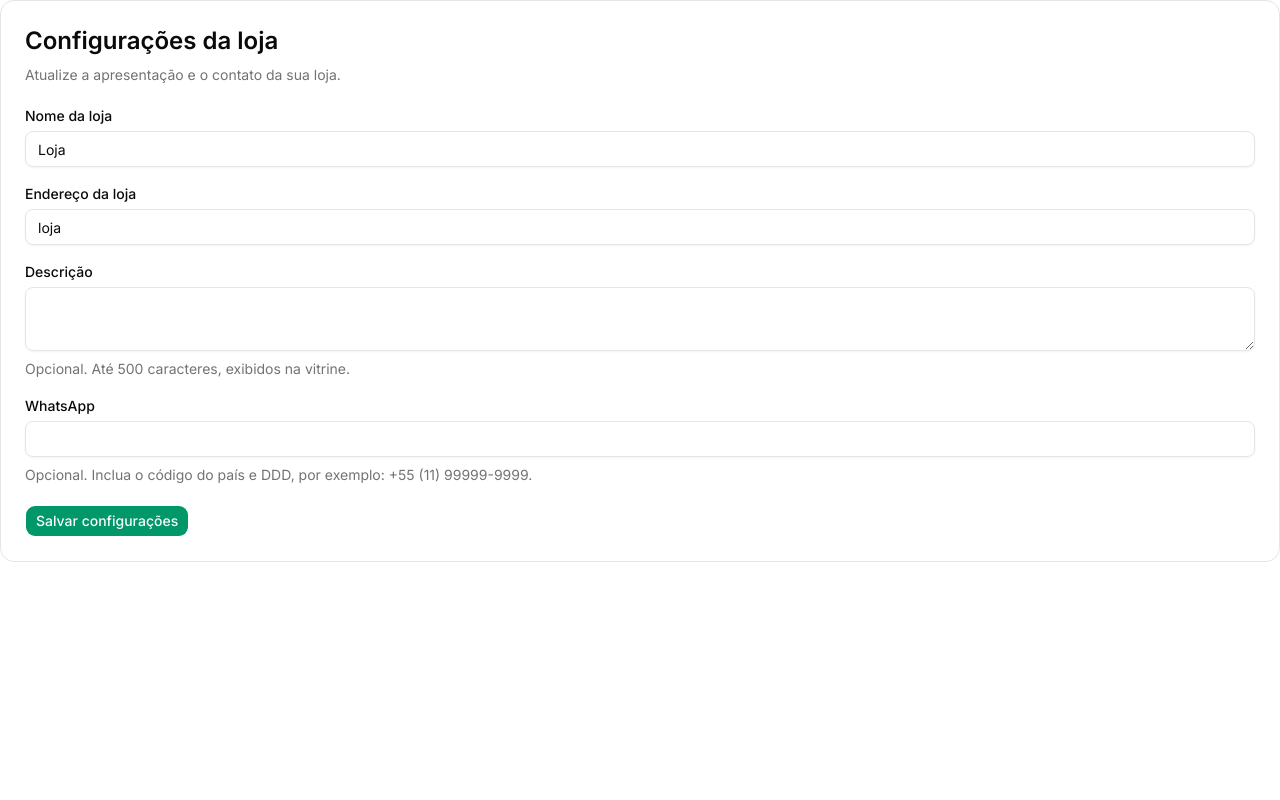
Test case: bloqueia envios enquanto pendente e trata falha de transporte
This screenshot has width=1280, height=800.
Click the button "Salvar configurações" at (107, 521), box [25,505,189,537]
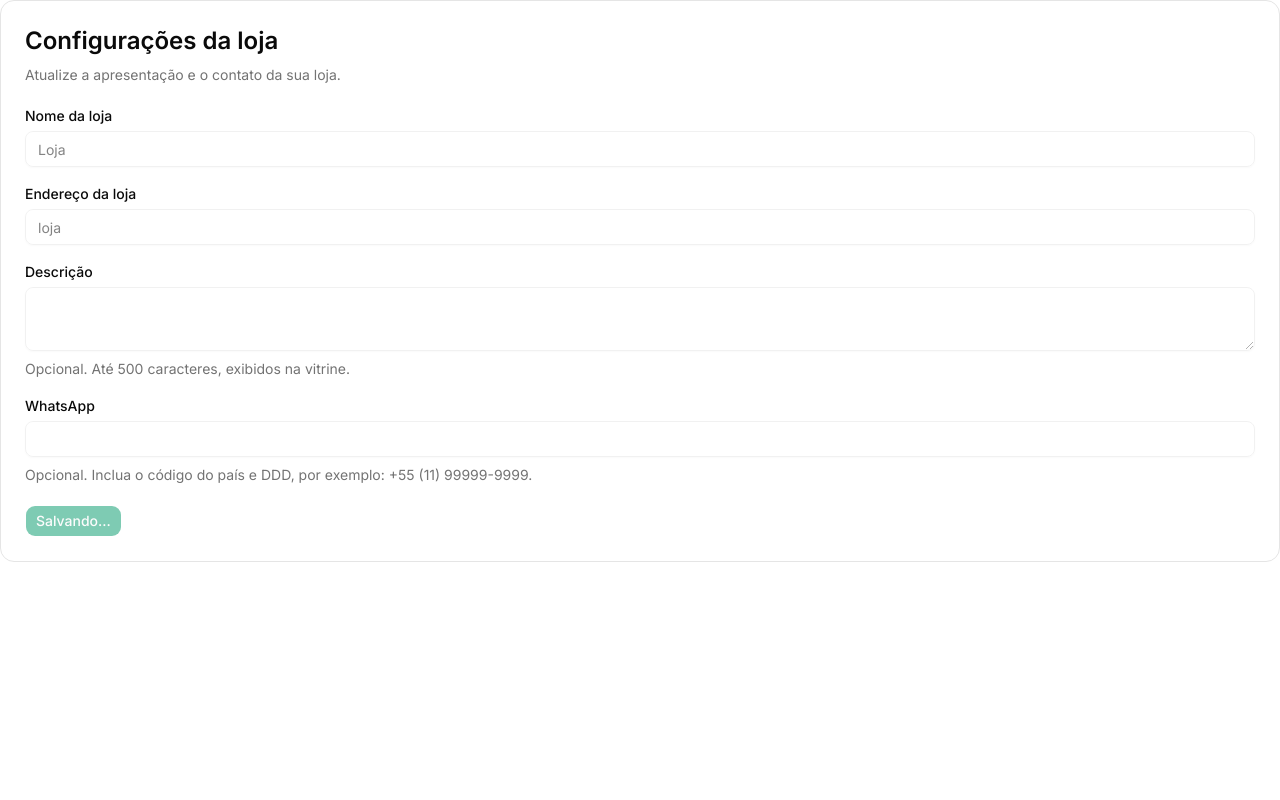
Result: the button "Salvando…" is disabled at [25,505,122,537]
Submit the form, box [25,109,1255,537]
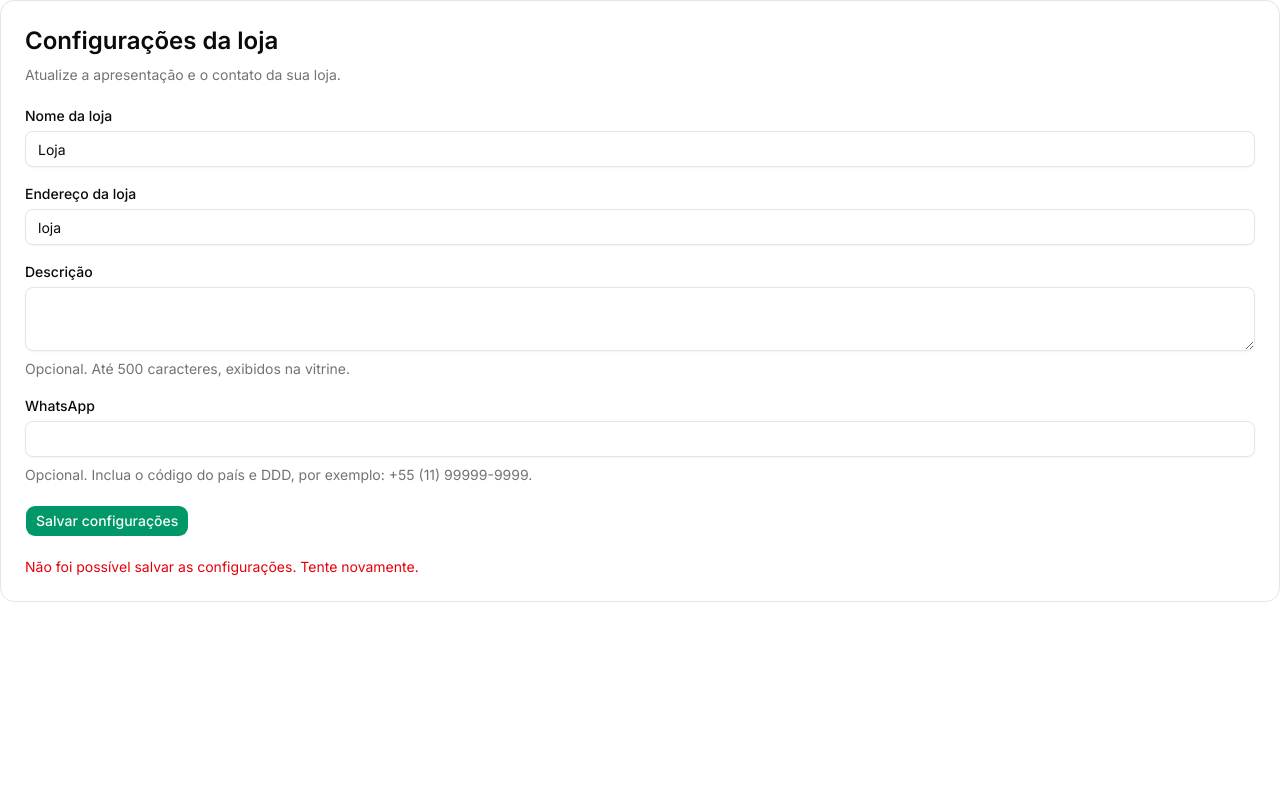
Result: the message shows "Tente novamente" at [25,558,419,575]
